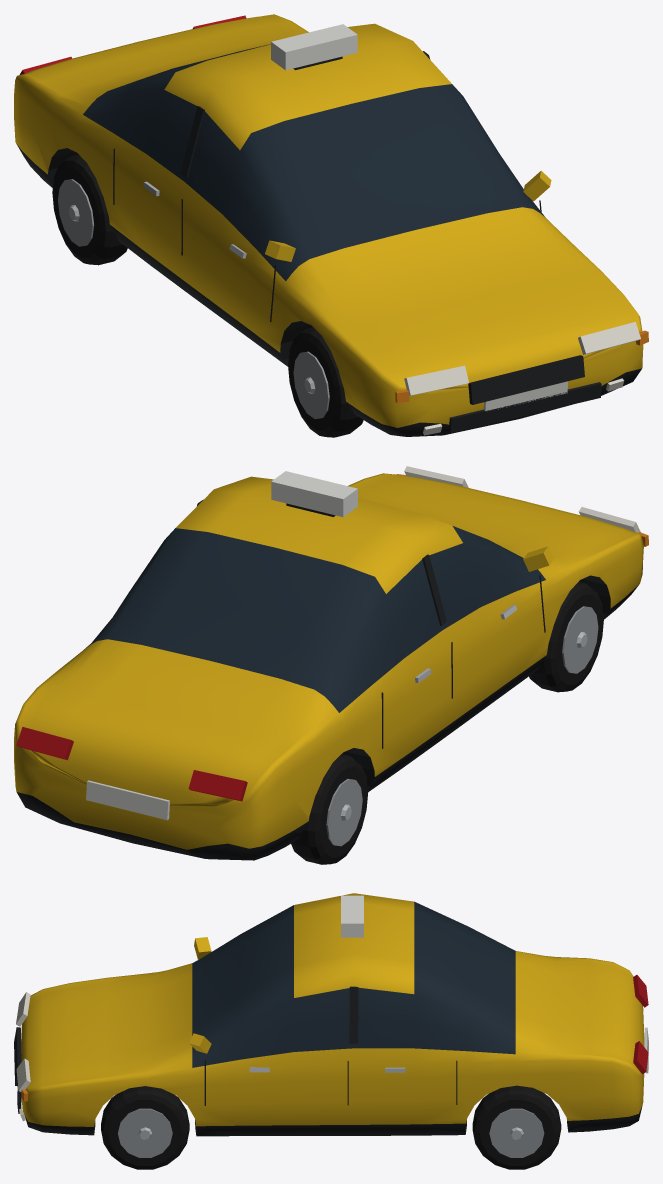
The model's file is taxi-lome.glb.
The picture shows the model from 3 angles, top to bottom: view 1: azimuth 30°, elevation 25°; view 2: azimuth 150°, elevation 25°; view 3: azimuth 270°, elevation 25°; orthographic projection. The views are drawn at different scales.
Parts seen in each view (by area): view 1: body, roue-wheel-back-right, roue-wheel-front-right; view 2: body, roue-wheel-back-right, roue-wheel-front-right; view 3: body, roue-wheel-back-left, roue-wheel-front-left.
Part boxes in pixels (x1,y1,x2,y2): body: (14, 14, 648, 436); roue-wheel-back-right: (52, 154, 127, 265); roue-wheel-front-right: (288, 327, 363, 437); body: (14, 466, 648, 860); roue-wheel-back-right: (291, 754, 368, 864); roue-wheel-front-right: (529, 582, 603, 692); body: (14, 893, 648, 1136); roue-wheel-back-left: (472, 1085, 561, 1169); roue-wheel-front-left: (101, 1086, 189, 1169).
Size of the model in its own units: 1.8 by 1.63 by 4.44.
